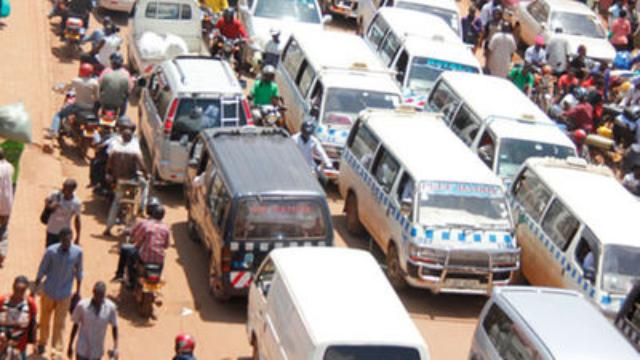car: (513, 0, 615, 71)
motorcycle: (120, 225, 169, 317), (56, 78, 103, 159)
van: (337, 104, 513, 290), (184, 124, 327, 294), (281, 32, 404, 168), (522, 157, 638, 298), (143, 56, 251, 182), (430, 67, 570, 160), (369, 6, 473, 112)
